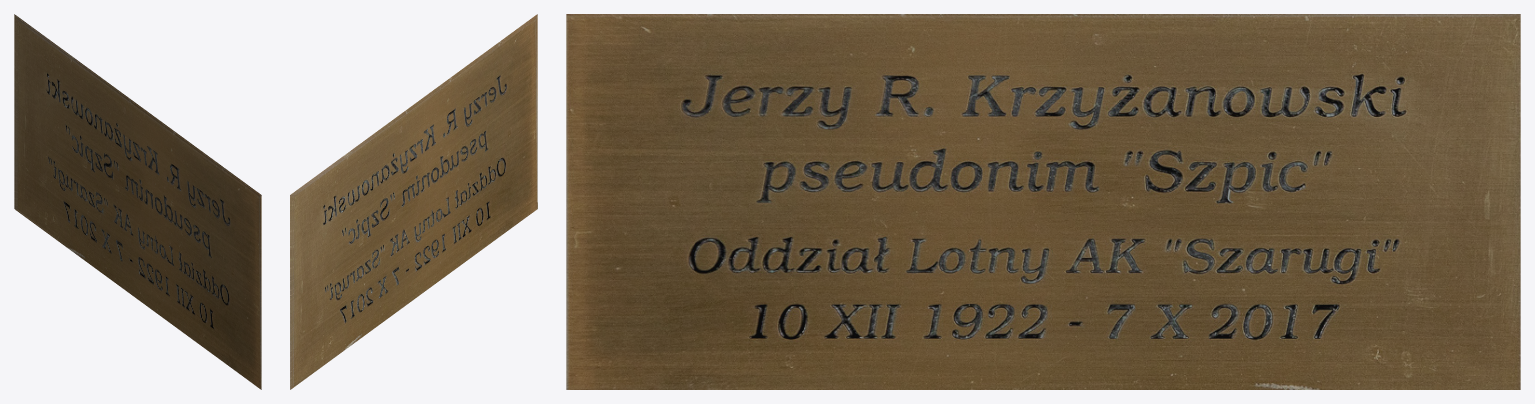
The model's file is 35.  JERZY R. KRZYŻANOWSKI.glb.
The picture shows the model from 3 angles, left to right: view 1: azimuth 30°, elevation 25°; view 2: azimuth 150°, elevation 25°; view 3: azimuth 270°, elevation 25°; orthographic projection. The views are drawn at different scales.
Parts seen in each view (by area): view 1: Plane; view 2: Plane; view 3: Plane.
Boxes of the visible parts, left/top/right/bottom form: Plane: left=14, top=14, right=261, bottom=389; Plane: left=290, top=14, right=537, bottom=389; Plane: left=566, top=14, right=1520, bottom=389.
Size of the model in its own units: 0.0102 by 6 by 13.8.
1 material, 1 textured.
